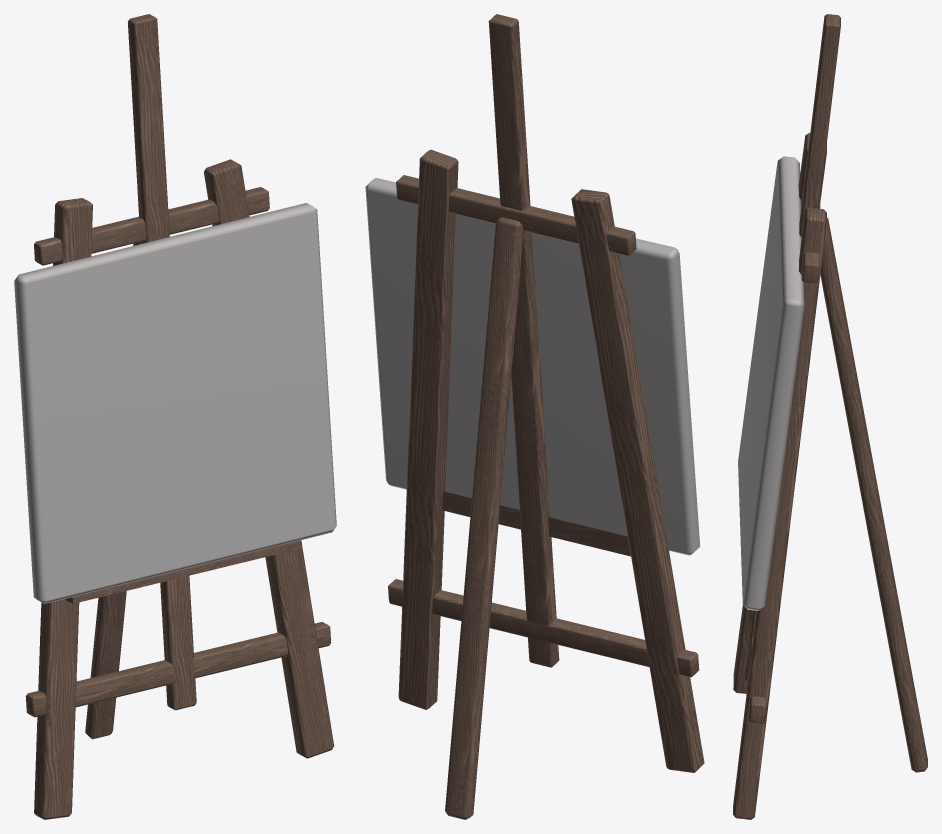
Rendered from entertainment_015.fbx.
3 views of the same model, side by side, from view 1: azimuth 30°, elevation 25°; view 2: azimuth 150°, elevation 25°; view 3: azimuth 270°, elevation 25° (orthographic). The views are drawn at different scales.
Visible parts, largest first — view 1: entertainment_015; view 2: entertainment_015; view 3: entertainment_015.
Part boxes in pixels (x1=…): entertainment_015: x1=14, y1=14, x2=336, y2=819; entertainment_015: x1=365, y1=14, x2=704, y2=819; entertainment_015: x1=733, y1=14, x2=927, y2=819.
Size of the model in its own units: 98 by 54.62 by 232.
